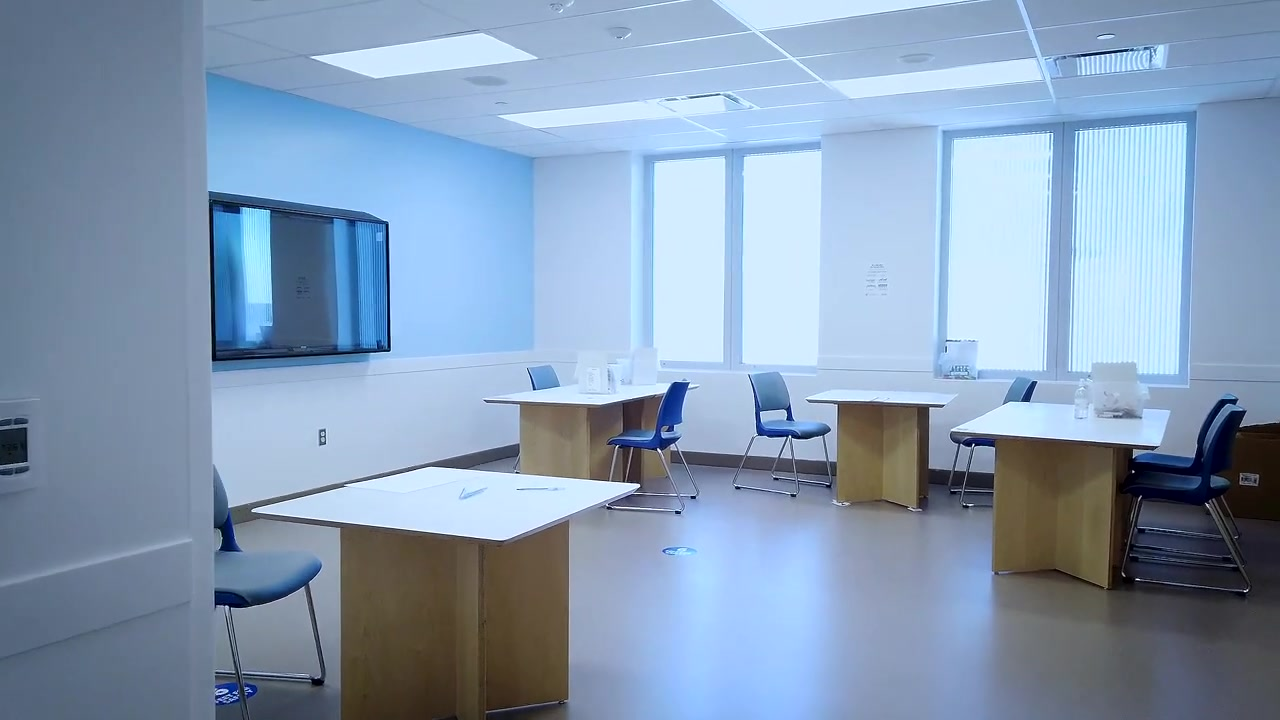TV: (205, 191, 396, 360)
chair: (214, 464, 327, 719), (1115, 404, 1252, 597), (1129, 393, 1241, 562), (731, 371, 833, 497), (605, 380, 700, 514), (949, 375, 1038, 509), (524, 362, 565, 394)
dispenser: (1073, 378, 1090, 419)
table: (252, 466, 640, 720), (949, 402, 1171, 589), (483, 384, 701, 482), (804, 388, 959, 511)
waste_bin: (1218, 424, 1280, 523)
